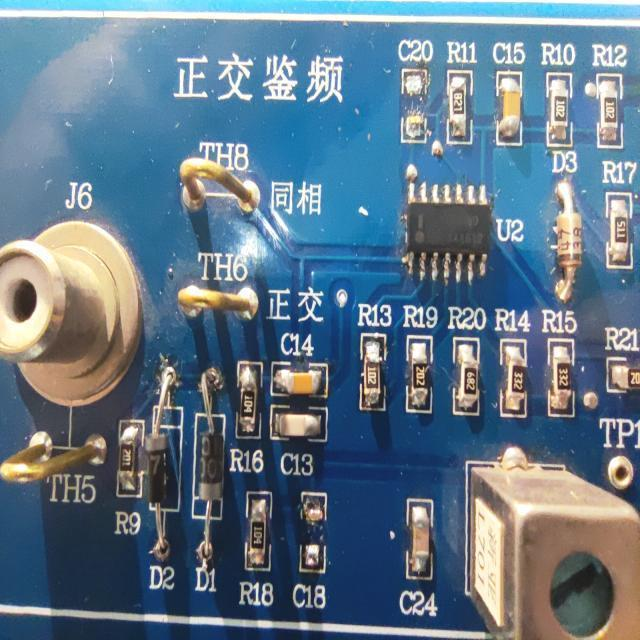Missing component: (290, 486, 330, 616), (394, 33, 434, 146)
